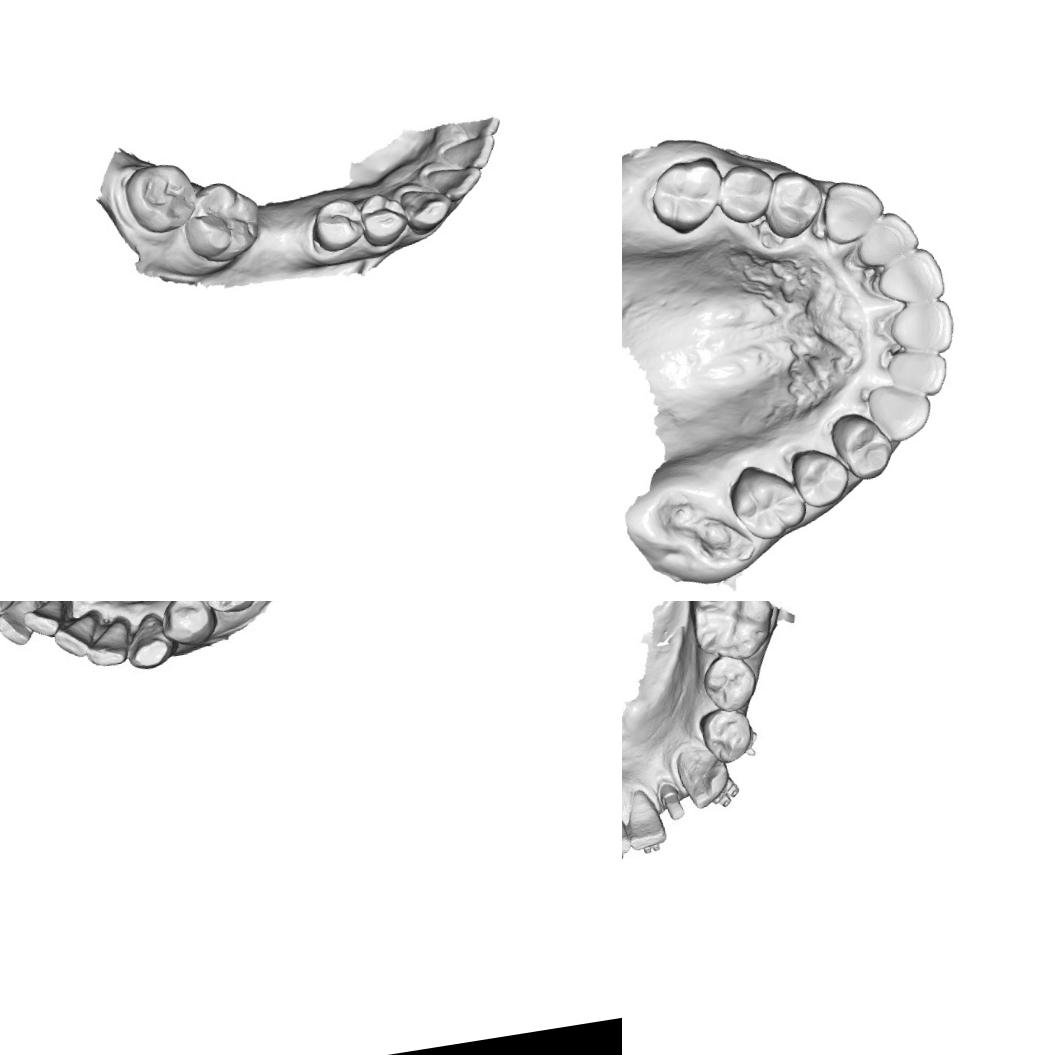abutment: (660, 782, 689, 828)
canine: (815, 173, 890, 247), (861, 376, 936, 449), (671, 739, 738, 817), (122, 609, 182, 672), (397, 183, 456, 237)
incisor: (880, 295, 960, 361), (870, 244, 948, 310), (850, 205, 926, 272), (883, 344, 955, 404), (424, 162, 486, 205), (81, 620, 134, 670), (439, 133, 500, 176), (622, 788, 666, 847), (51, 613, 101, 661), (0, 601, 45, 649), (19, 601, 69, 640), (622, 792, 633, 859)
molar: (178, 178, 266, 268), (723, 457, 810, 546), (646, 153, 730, 239), (121, 159, 201, 238), (681, 601, 779, 660)
premolar: (826, 406, 897, 486), (758, 165, 830, 243), (785, 440, 854, 514), (714, 156, 780, 229), (694, 702, 756, 762), (307, 194, 366, 255), (356, 189, 412, 250), (700, 655, 761, 710), (155, 601, 220, 650), (190, 601, 263, 618)
